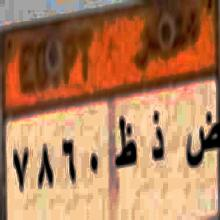0: (88, 138, 101, 186)
6: (60, 136, 77, 187)
7: (11, 140, 29, 200)
8: (35, 141, 54, 195)
Thaa: (113, 117, 138, 178)
daad: (184, 108, 220, 179)
zaal: (148, 109, 167, 169)
